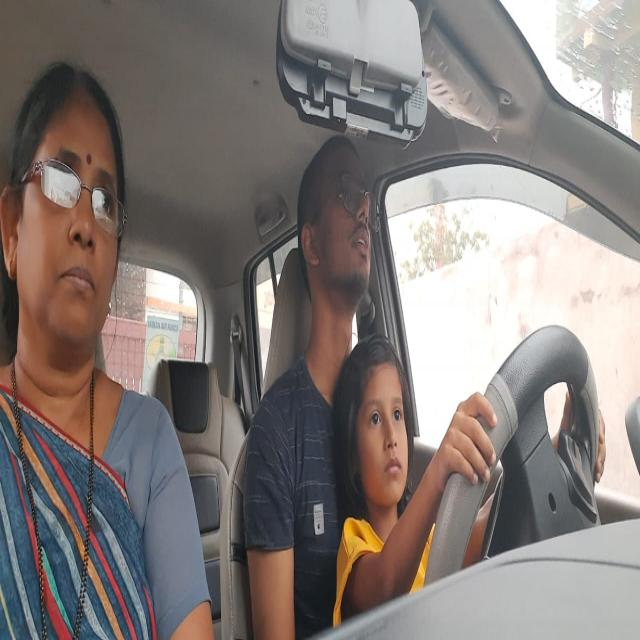child: (331, 333, 412, 512)
person: (0, 55, 126, 355), (294, 129, 379, 312)
